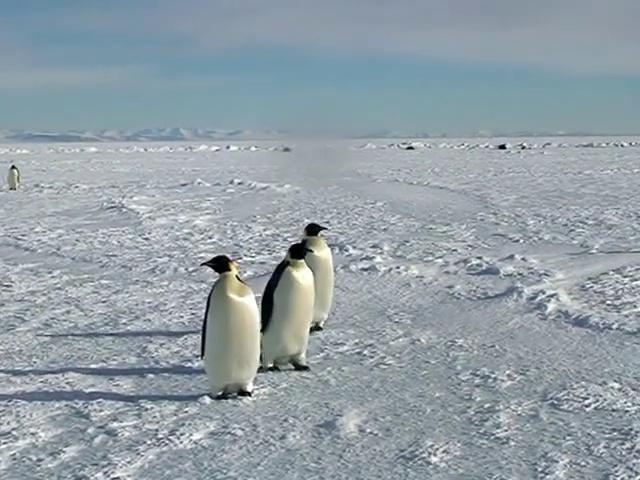animal: (302, 224, 335, 332)
